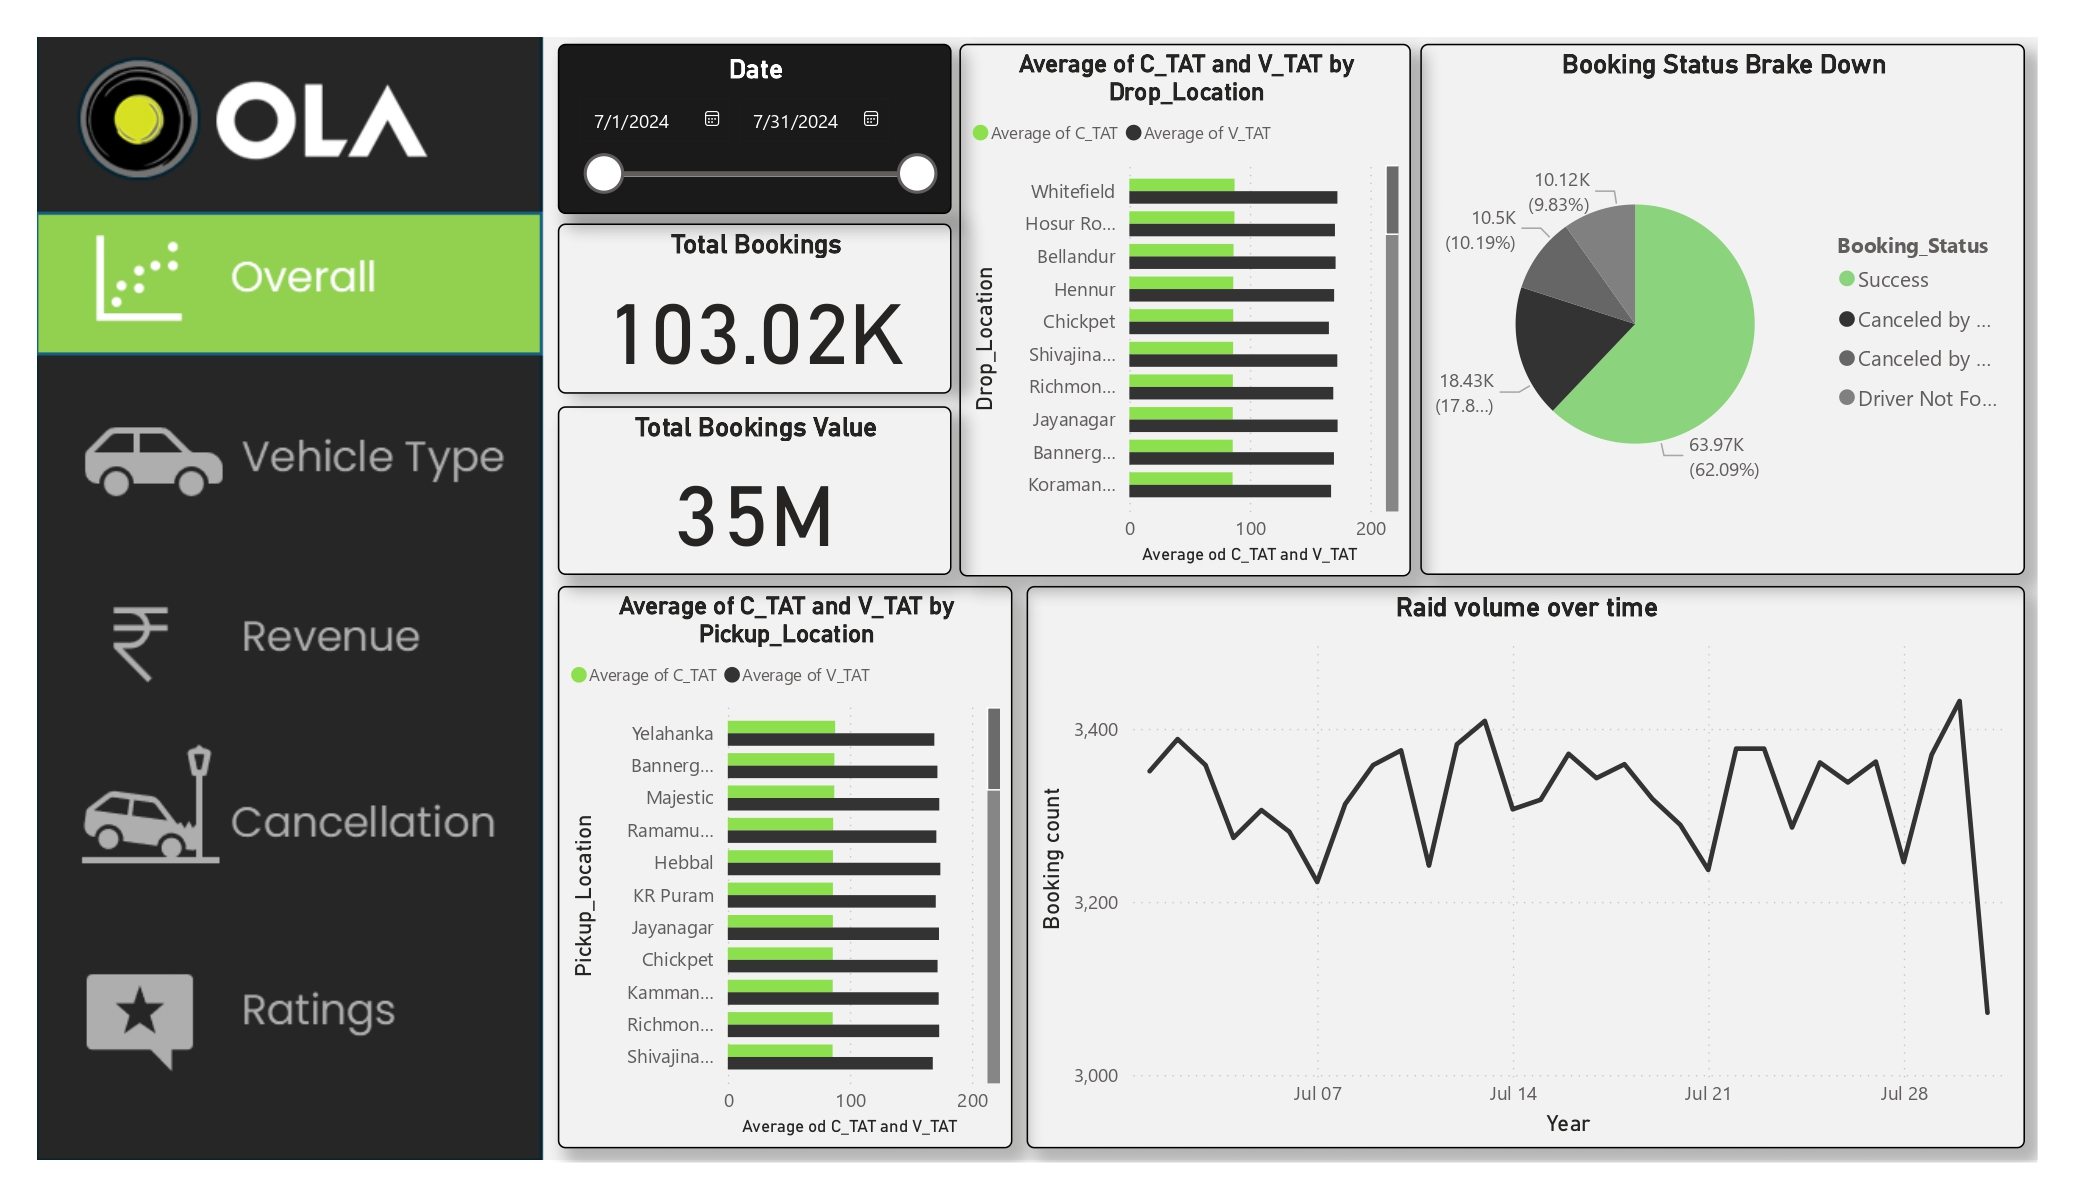

This screenshot's page, from the dashboard's own definition file:
{"tool":"powerbi","page":{"name":"OVER ALL","canvas":[1280,720],"ordinal":0},"visuals":[{"type":"actionButton","box":[0,228.2,323.9,92],"z":0},{"type":"actionButton","box":[0,337.4,323.9,92],"z":1000},{"type":"actionButton","box":[0,457.7,323.9,92],"z":2000},{"type":"actionButton","box":[0,577.9,323.9,92],"z":3000},{"type":"actionButton","box":[0,109.2,323.9,92],"z":4000},{"type":"lineChart","title":"Raid volume over time","fields":{"Y":["CountNonNull(July.Booking_ID)"],"Category":["July.Date.Variation.Date Hierarchy.Year","July.Date.Variation.Date Hierarchy.Quarter","July.Date.Variation.Date Hierarchy.Month","July.Date.Variation.Date Hierarchy.Day"]},"box":[632.6,351.3,639.5,359.5],"z":5000},{"type":"pieChart","title":"Booking Status Brake Down","fields":{"Category":["July.Booking_Status"],"Y":["CountNonNull(July.Booking_Status)"]},"box":[885.1,4.1,387,340.3],"z":6000},{"type":"slicer","title":"Date ","fields":{"Values":["July.Date"]},"box":[333.4,4.1,251.1,108.4],"z":7000},{"type":"card","title":"Total Bookings","fields":{"Values":["Count(July.Booking_ID)"]},"box":[333.4,119.4,251.1,108.4],"z":8000},{"type":"card","title":"Total Bookings Value","fields":{"Values":["Sum(July.Booking_Value)"]},"box":[333.4,236,251.1,108.4],"z":9000},{"type":"clusteredBarChart","title":"Average of C_TAT and V_TAT by Drop_Location","fields":{"Y":["Avg(July.C_TAT)","Avg(July.V_TAT)"],"Category":["July.Drop_Location"]},"box":[590,3.8,288.8,341.2],"z":9001},{"type":"clusteredBarChart","title":"Average of C_TAT and V_TAT by Pickup_Location","fields":{"Y":["Avg(July.C_TAT)","Avg(July.V_TAT)"],"Category":["July.Pickup_Location"]},"box":[333.4,351.3,290.9,359.5],"z":9002}]}

Visuals, with their boxes in screenshot pixels (x1, y1, x2, y2):
actionButton: pyautogui.locateOnScreen(38, 394, 544, 538)
actionButton: pyautogui.locateOnScreen(38, 565, 544, 708)
actionButton: pyautogui.locateOnScreen(38, 753, 544, 896)
actionButton: pyautogui.locateOnScreen(38, 940, 544, 1084)
actionButton: pyautogui.locateOnScreen(38, 208, 544, 352)
"Raid volume over time" lineChart: pyautogui.locateOnScreen(1026, 586, 2025, 1148)
"Booking Status Brake Down" pieChart: pyautogui.locateOnScreen(1420, 44, 2025, 576)
"Date " slicer: pyautogui.locateOnScreen(558, 44, 951, 213)
"Total Bookings" card: pyautogui.locateOnScreen(558, 224, 951, 393)
"Total Bookings Value" card: pyautogui.locateOnScreen(558, 406, 951, 576)
"Average of C_TAT and V_TAT by Drop_Location" clusteredBarChart: pyautogui.locateOnScreen(959, 43, 1411, 577)
"Average of C_TAT and V_TAT by Pickup_Location" clusteredBarChart: pyautogui.locateOnScreen(558, 586, 1013, 1148)
